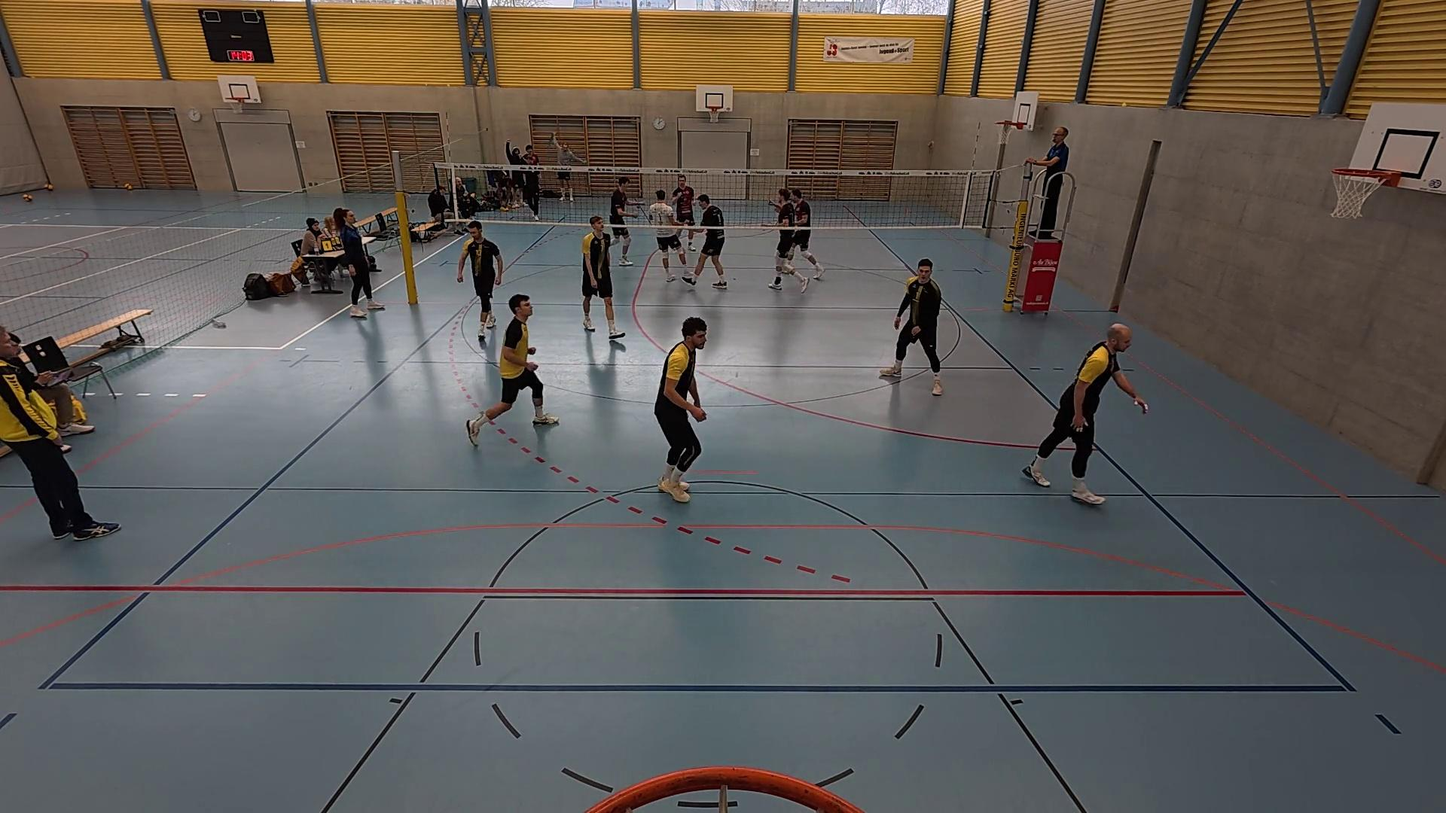Player: (1021, 322, 1146, 505), (466, 294, 559, 447), (654, 317, 707, 503), (878, 259, 947, 396), (580, 215, 626, 346), (456, 220, 504, 341), (769, 188, 814, 289), (780, 188, 827, 282), (644, 188, 685, 282), (691, 194, 730, 290), (608, 177, 635, 264), (670, 175, 697, 254)
